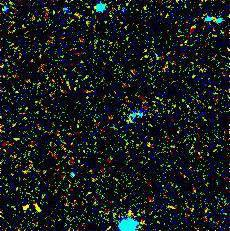star: (17, 194, 47, 224)
